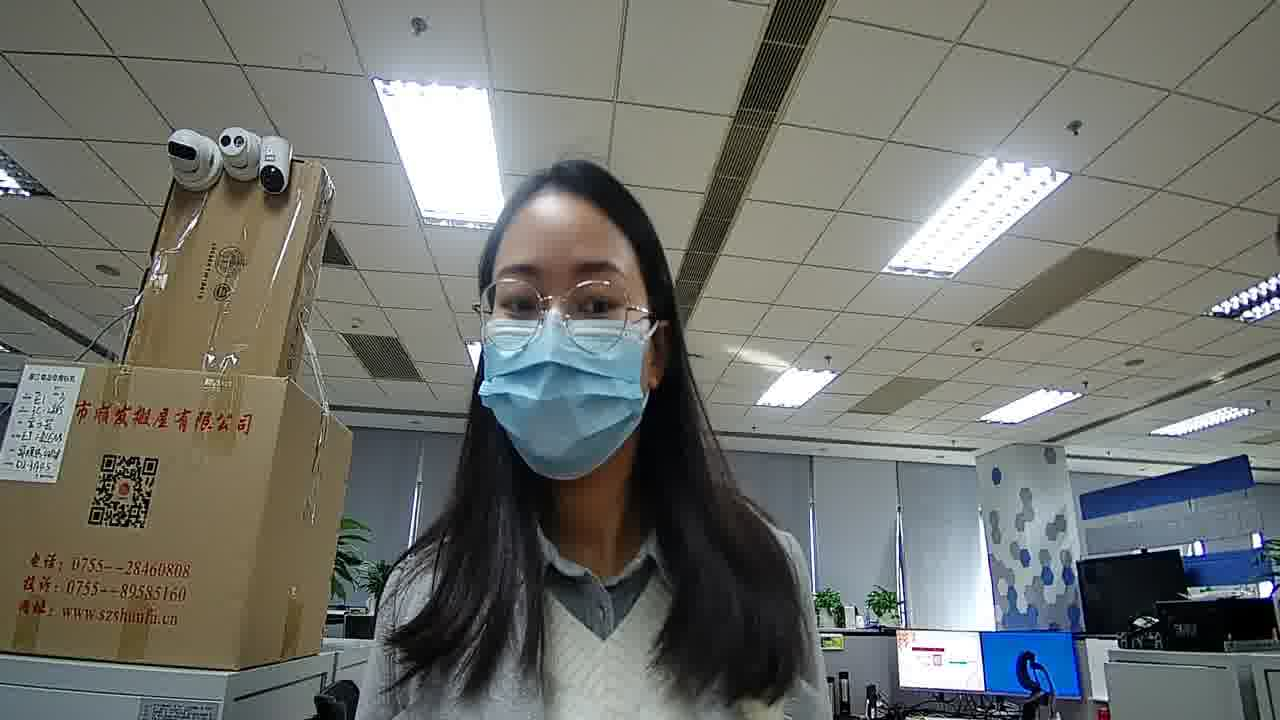face: (476, 200, 655, 480)
mask: (477, 316, 651, 482)
person: (375, 161, 815, 719)
